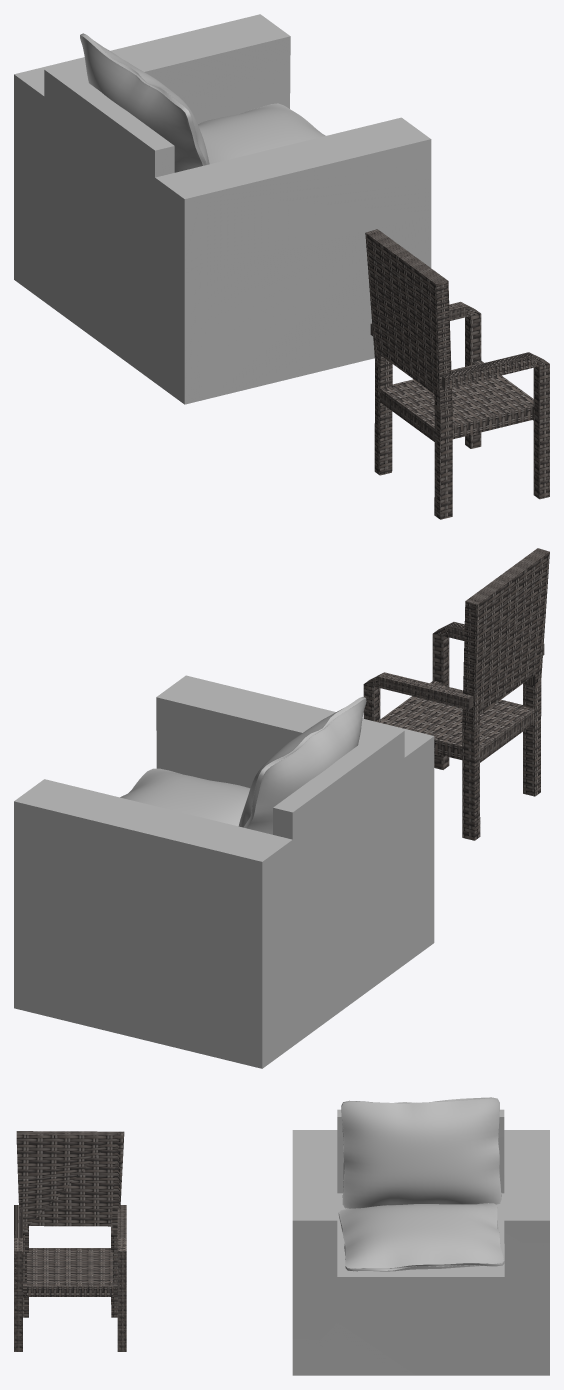
File: chair.fbx
3 renders of one model, top to bottom at view 1: azimuth 30°, elevation 25°; view 2: azimuth 150°, elevation 25°; view 3: azimuth 270°, elevation 25°, orthographic. The views are drawn at different scales.
Visible parts, largest first — view 1: Seat2, Cube.005; view 2: Seat2, Cube.005; view 3: Seat2, Cube.005.
Part boxes in pixels (x1,y1,x2,y2): Seat2: [14, 14, 431, 404]; Cube.005: [365, 229, 549, 519]; Seat2: [14, 675, 434, 1068]; Cube.005: [363, 548, 549, 840]; Seat2: [292, 1097, 549, 1375]; Cube.005: [14, 1131, 126, 1351].
Bounding box in the file's own units: 110 × 113 × 275.
2 materials, 1 textured.
